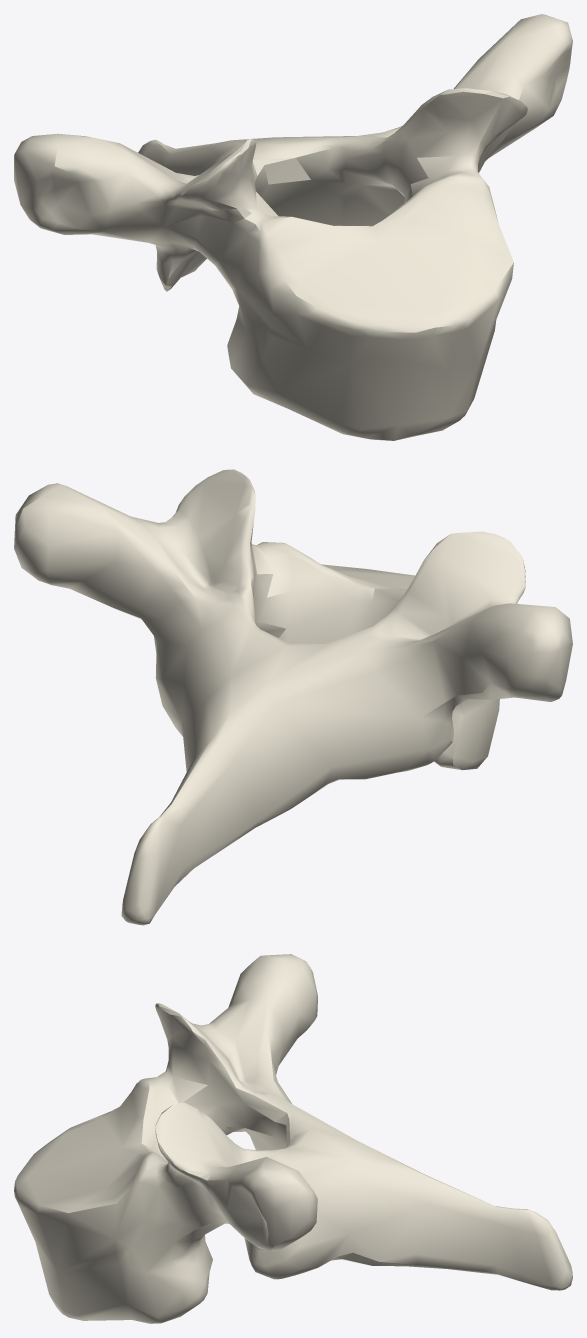
The model's file is fma9187_fj3160.glb.
The picture shows the model from 3 angles, top to bottom: view 1: azimuth 30°, elevation 25°; view 2: azimuth 150°, elevation 25°; view 3: azimuth 270°, elevation 25°; orthographic projection. The views are drawn at different scales.
Parts seen in each view (by area): view 1: FMA9187_FJ3160; view 2: FMA9187_FJ3160; view 3: FMA9187_FJ3160.
Boxes of the visible parts, bbox=[...] form: FMA9187_FJ3160: bbox=[14, 14, 572, 440]; FMA9187_FJ3160: bbox=[14, 469, 572, 925]; FMA9187_FJ3160: bbox=[14, 954, 572, 1323].
Bounding box in the file's own units: 0.0705 × 0.0338 × 0.0706.
